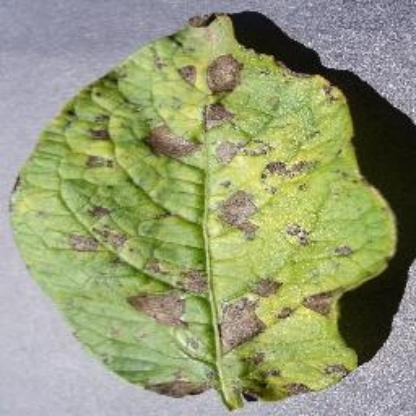Early-Blight: (10, 10, 402, 408)
